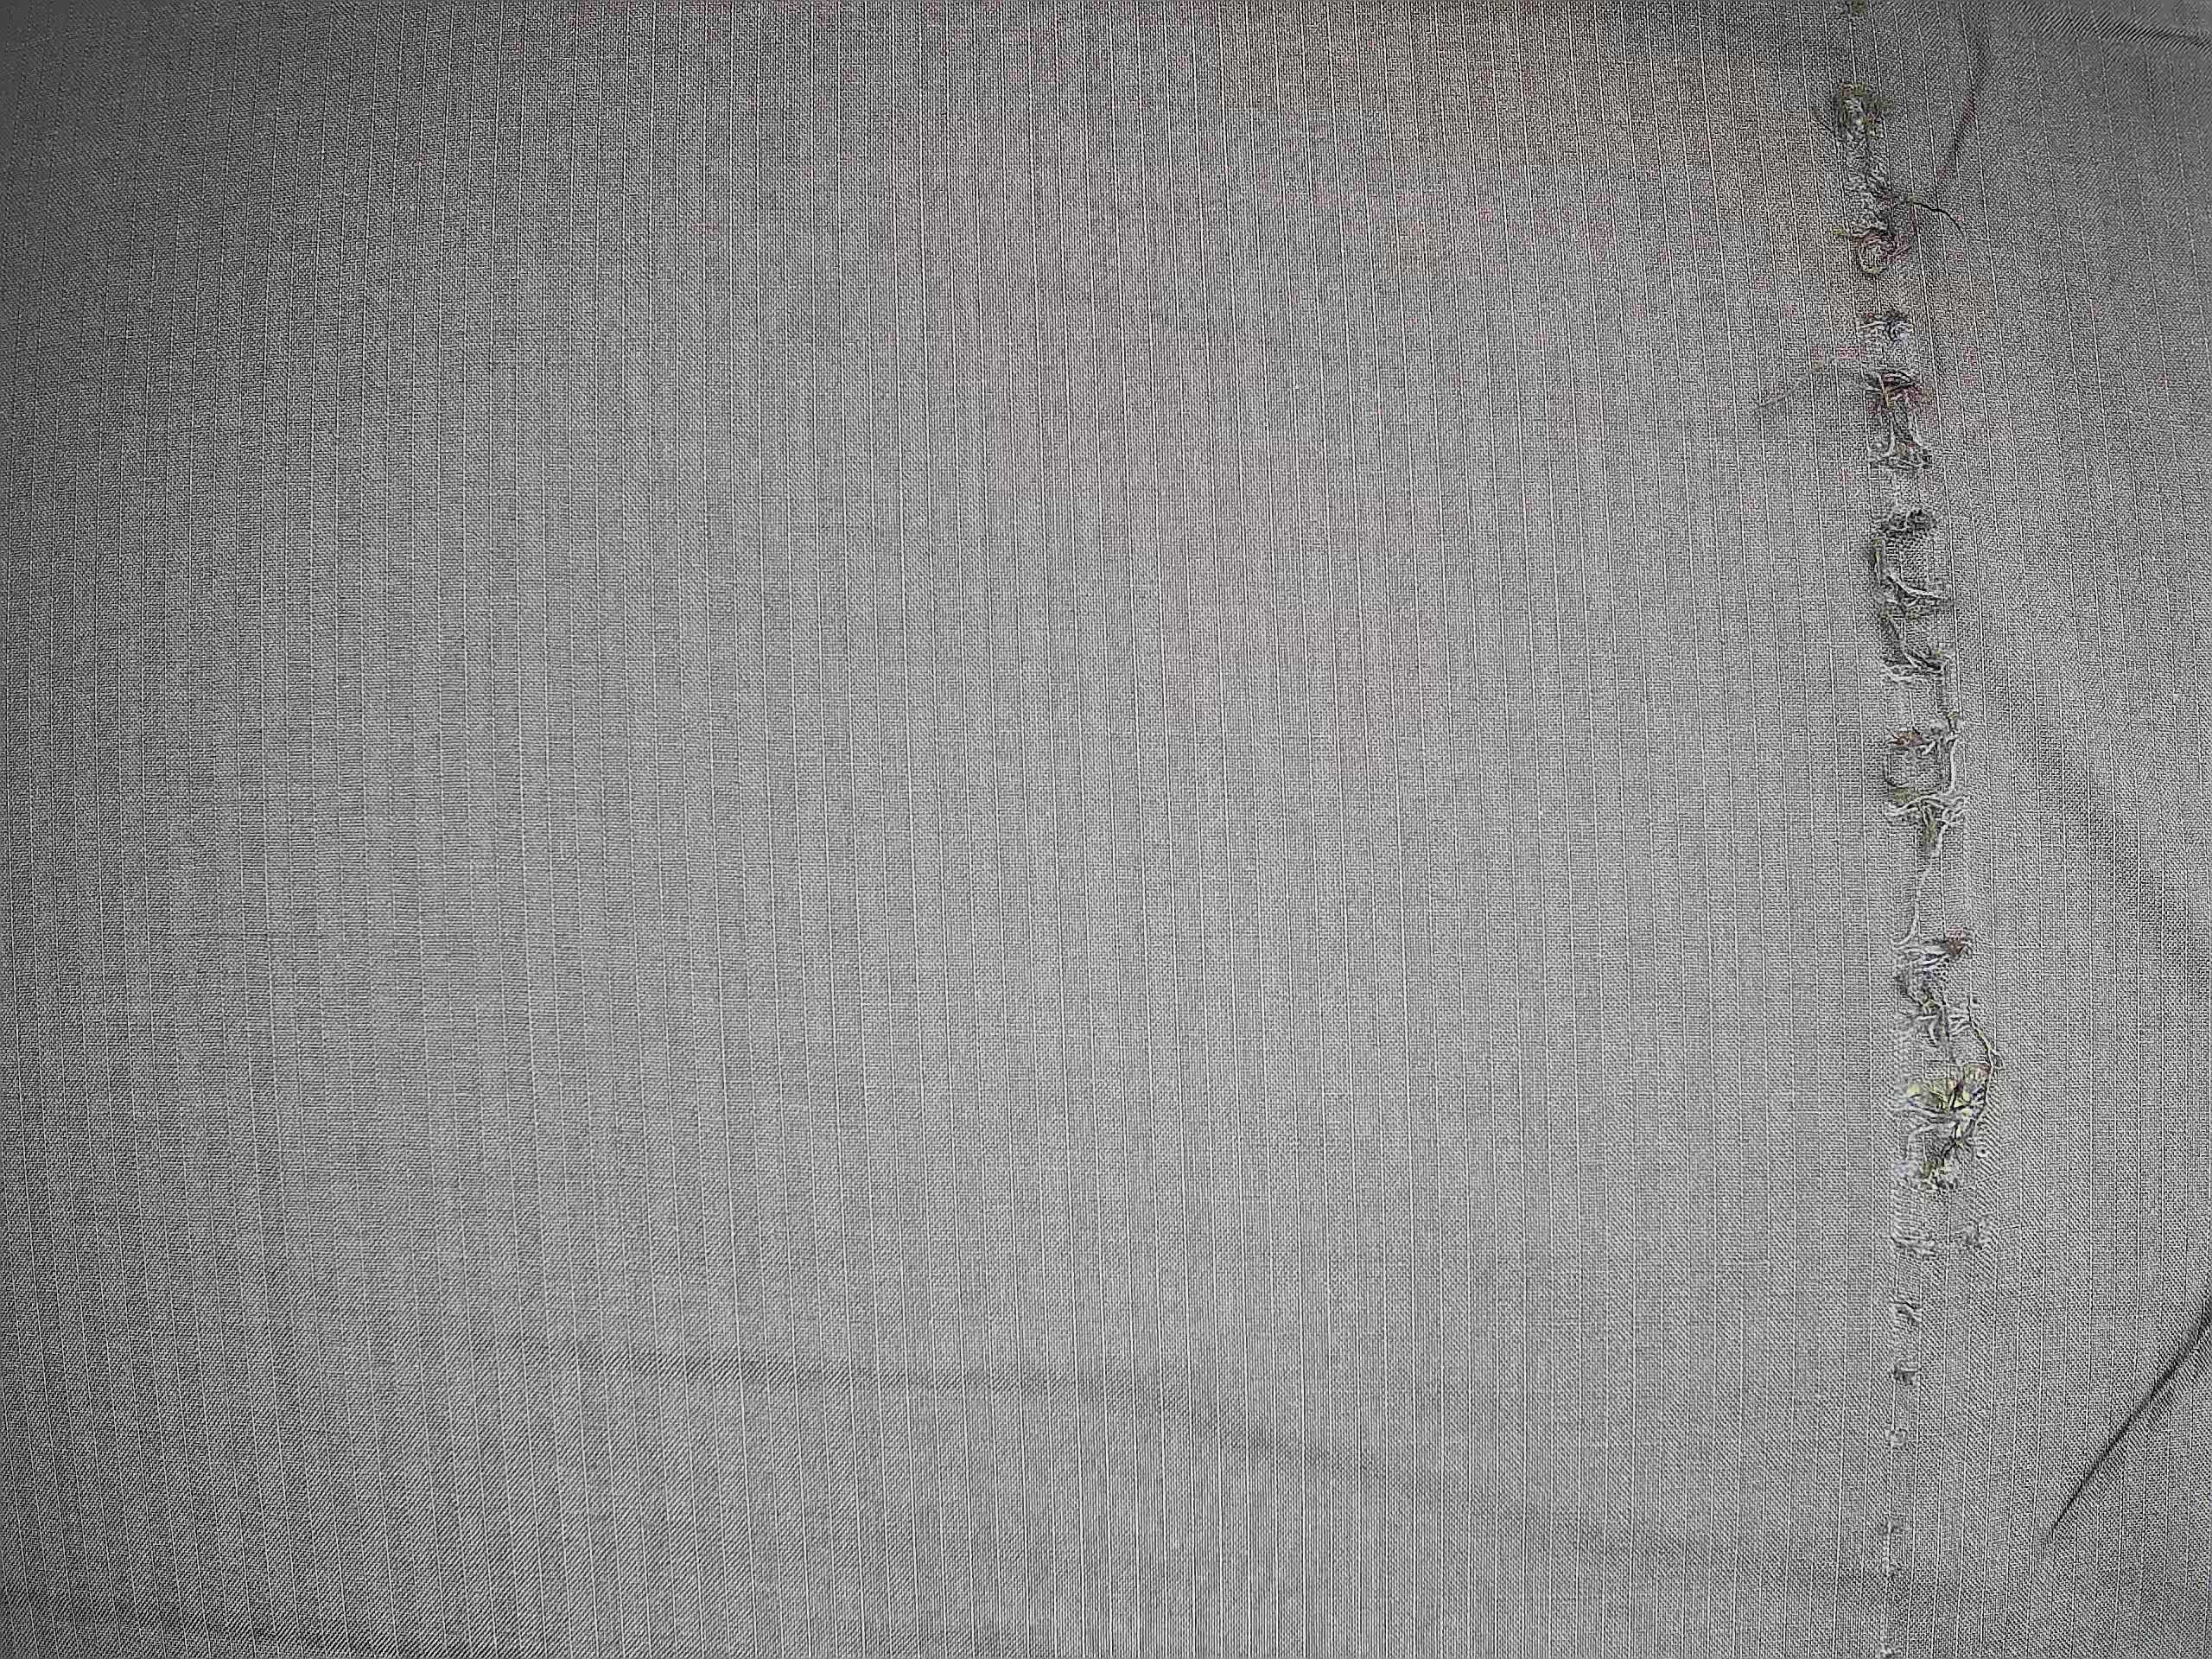puncture-hole: (1804, 52, 2024, 1617)
